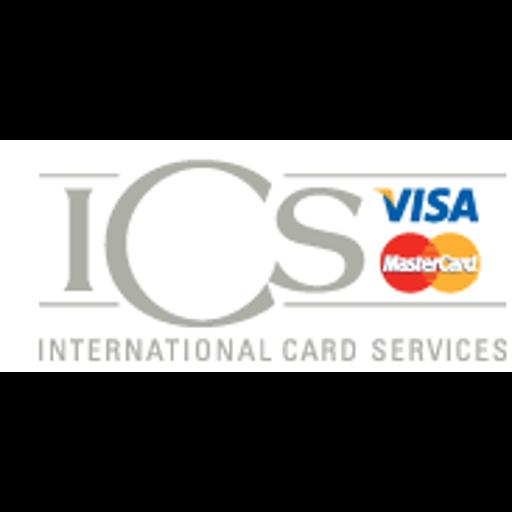International Card Services B-V: (0, 140, 512, 372)
